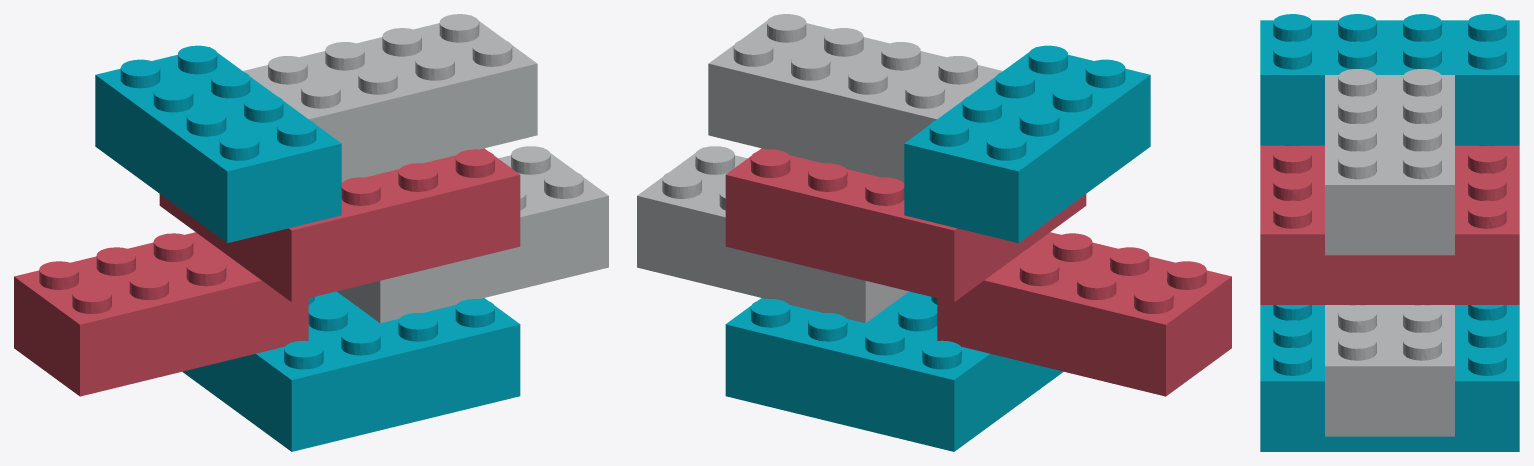
The model's file is Ontwerp-C.glb.
3 renders of one model, left to right at view 1: azimuth 30°, elevation 25°; view 2: azimuth 150°, elevation 25°; view 3: azimuth 270°, elevation 25°, orthographic.
Parts seen in each view (by area): view 1: Mesh_Mesh_head_geo.001_lambert2SG.001; view 2: Mesh_Mesh_head_geo.001_lambert2SG.001; view 3: Mesh_Mesh_head_geo.001_lambert2SG.001.
Boxes of the visible parts, bbox=[...] form: Mesh_Mesh_head_geo.001_lambert2SG.001: bbox=[14, 14, 608, 451]; Mesh_Mesh_head_geo.001_lambert2SG.001: bbox=[637, 14, 1231, 451]; Mesh_Mesh_head_geo.001_lambert2SG.001: bbox=[1260, 14, 1519, 451].
Size of the model in its own units: 0.074 by 0.0412 by 0.032.
